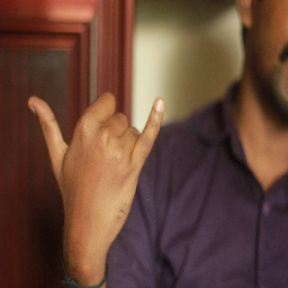J: (30, 73, 165, 231)
